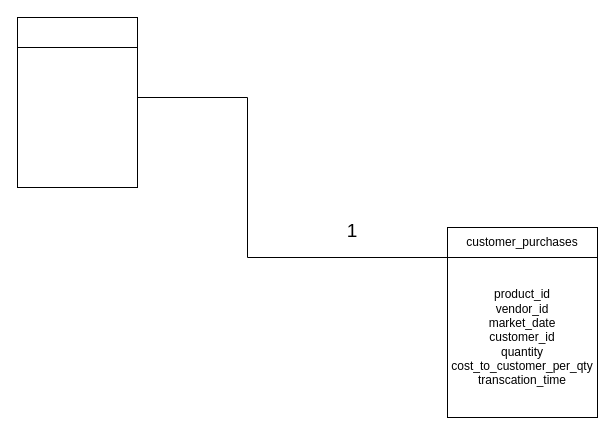
The diagram is 615 pixels wide and 435 high, and some of its shapes have lost their labels. The shapes that lost their labels are listed below. From the top down, each one's box as (x1, y1, x2, y2) in pixels, then its label:
(16, 16, 138, 48): customer
(16, 46, 138, 188): customer_id customer_first_name customer_last_name customer_postal_code
